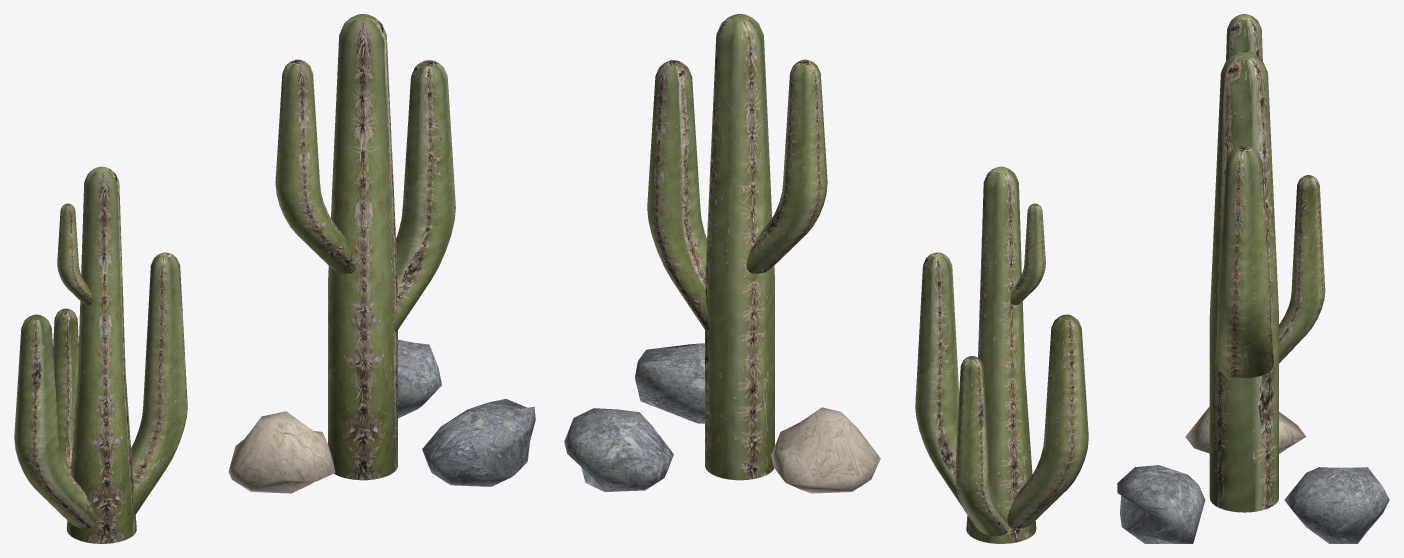
The model's file is cac.fbx.
3 views of the same model, side by side, from view 1: azimuth 30°, elevation 25°; view 2: azimuth 150°, elevation 25°; view 3: azimuth 270°, elevation 25° (orthographic).
Visible parts, largest first — view 1: Cactus, Cactus_2, Rock_2.001, Rock_1, Rock_2; view 2: Cactus, Cactus_2, Rock_2, Rock_1, Rock_2.001; view 3: Cactus, Cactus_2, Rock_2, Rock_2.001, Rock_1.
Boxes of the visible parts, left/top/right/bottom form: Cactus: left=275, top=14, right=455, bottom=480; Cactus_2: left=14, top=166, right=187, bottom=543; Rock_2.001: left=422, top=399, right=535, bottom=486; Rock_1: left=228, top=411, right=335, bottom=493; Rock_2: left=398, top=339, right=441, bottom=418; Cactus: left=647, top=14, right=827, bottom=480; Cactus_2: left=915, top=166, right=1088, bottom=543; Rock_2: left=564, top=408, right=673, bottom=491; Rock_1: left=771, top=407, right=880, bottom=493; Rock_2.001: left=635, top=343, right=704, bottom=423; Cactus: left=1209, top=50, right=1278, bottom=512; Cactus_2: left=1226, top=14, right=1325, bottom=363; Rock_2: left=1284, top=467, right=1389, bottom=543; Rock_2.001: left=1117, top=465, right=1205, bottom=543; Rock_1: left=1185, top=407, right=1306, bottom=453.
Size of the model in its own units: 239 by 213 by 118.
Materials: 3 (3 with a texture image).
